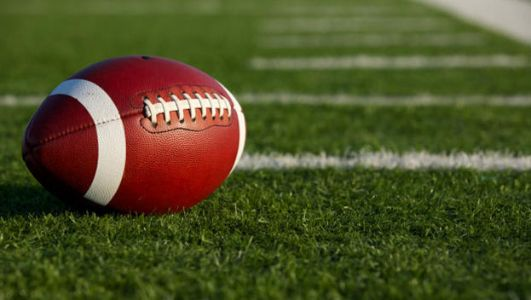futbol americano: (22, 55, 247, 214)
